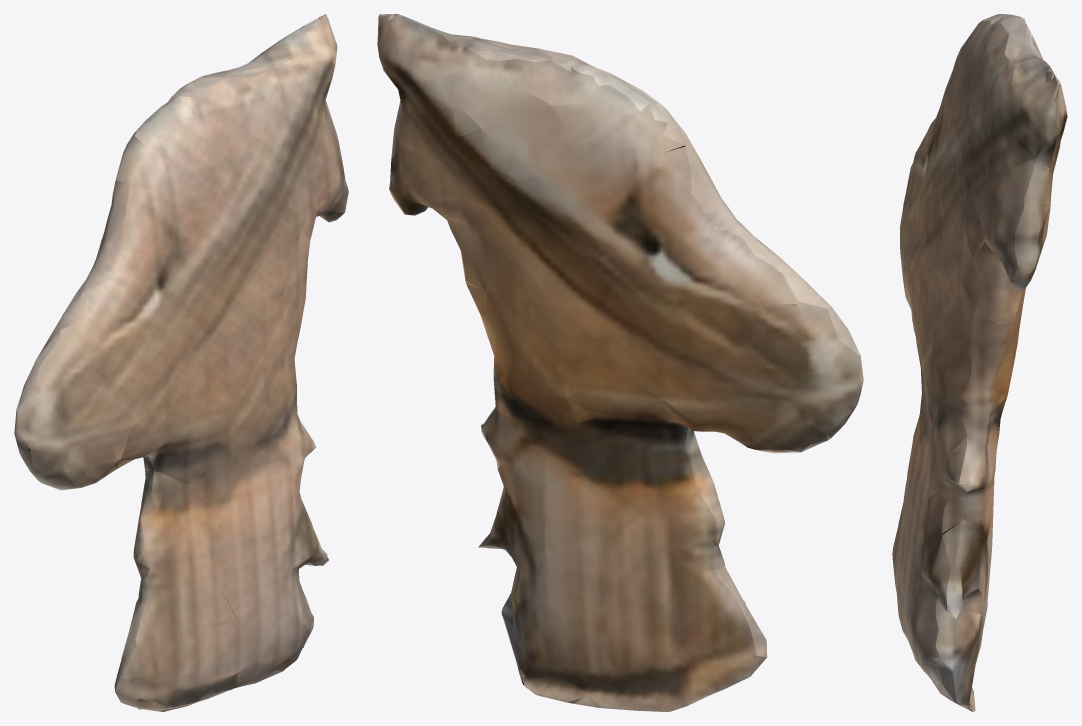
3 renders of one model, left to right at view 1: azimuth 30°, elevation 25°; view 2: azimuth 150°, elevation 25°; view 3: azimuth 270°, elevation 25°, orthographic. The views are drawn at different scales.
Parts seen in each view (by area): view 1: world; view 2: world; view 3: world.
Boxes of the visible parts, <box> form: world: <box>14,14,348,711</box>; world: <box>377,14,863,711</box>; world: <box>892,14,1067,711</box>.
Size of the model in its own units: 0.3188 by 0.495 by 0.1144.
1 material, 1 textured.
